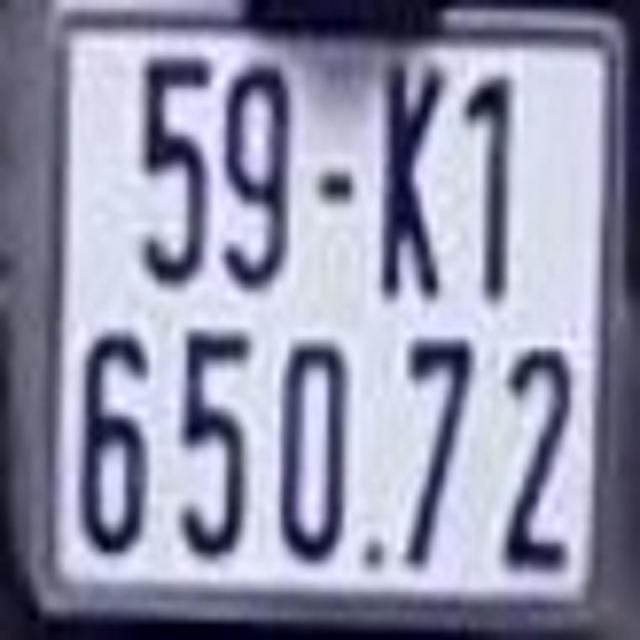0: (280, 348, 348, 564)
1: (464, 68, 534, 303)
2: (501, 346, 571, 577)
5: (183, 326, 254, 566), (139, 56, 213, 282)
6: (80, 325, 156, 560)
7: (407, 338, 474, 576)
9: (225, 61, 299, 300)
K: (376, 59, 449, 308)
